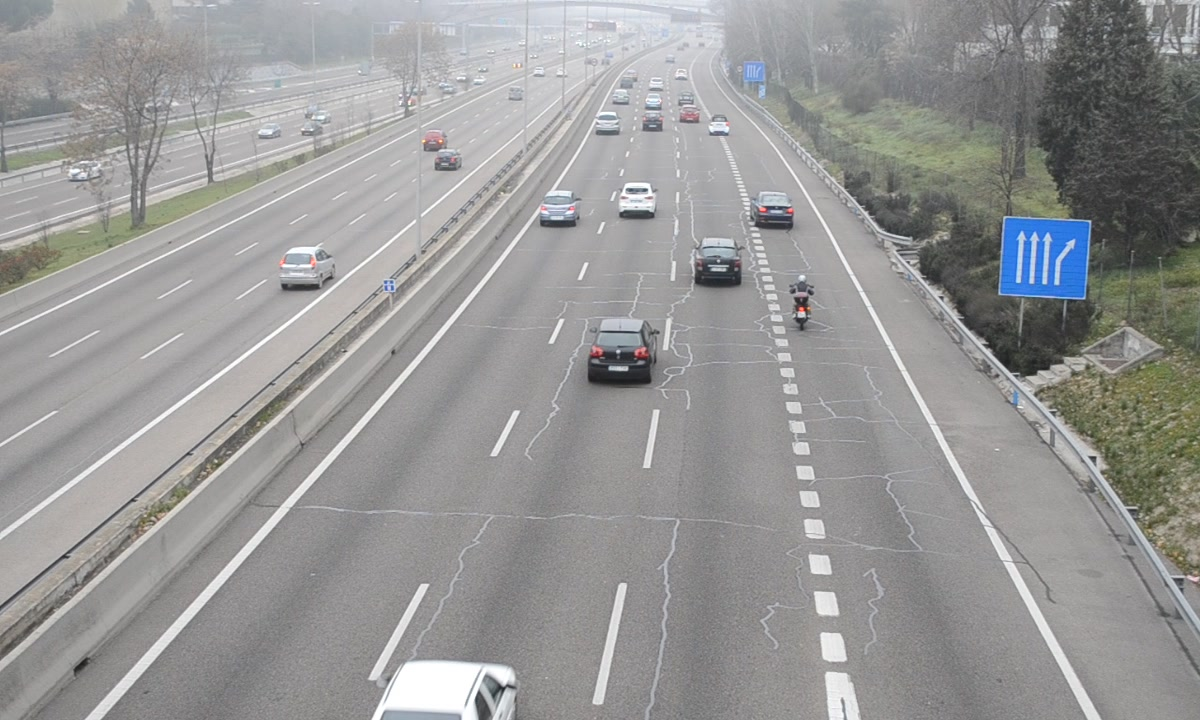car: (373, 663, 519, 720), (588, 319, 656, 382), (694, 240, 745, 286), (751, 189, 795, 227), (538, 191, 580, 226), (619, 183, 658, 217), (594, 108, 618, 135), (709, 114, 730, 137)
motorcycle: (788, 272, 815, 333)
